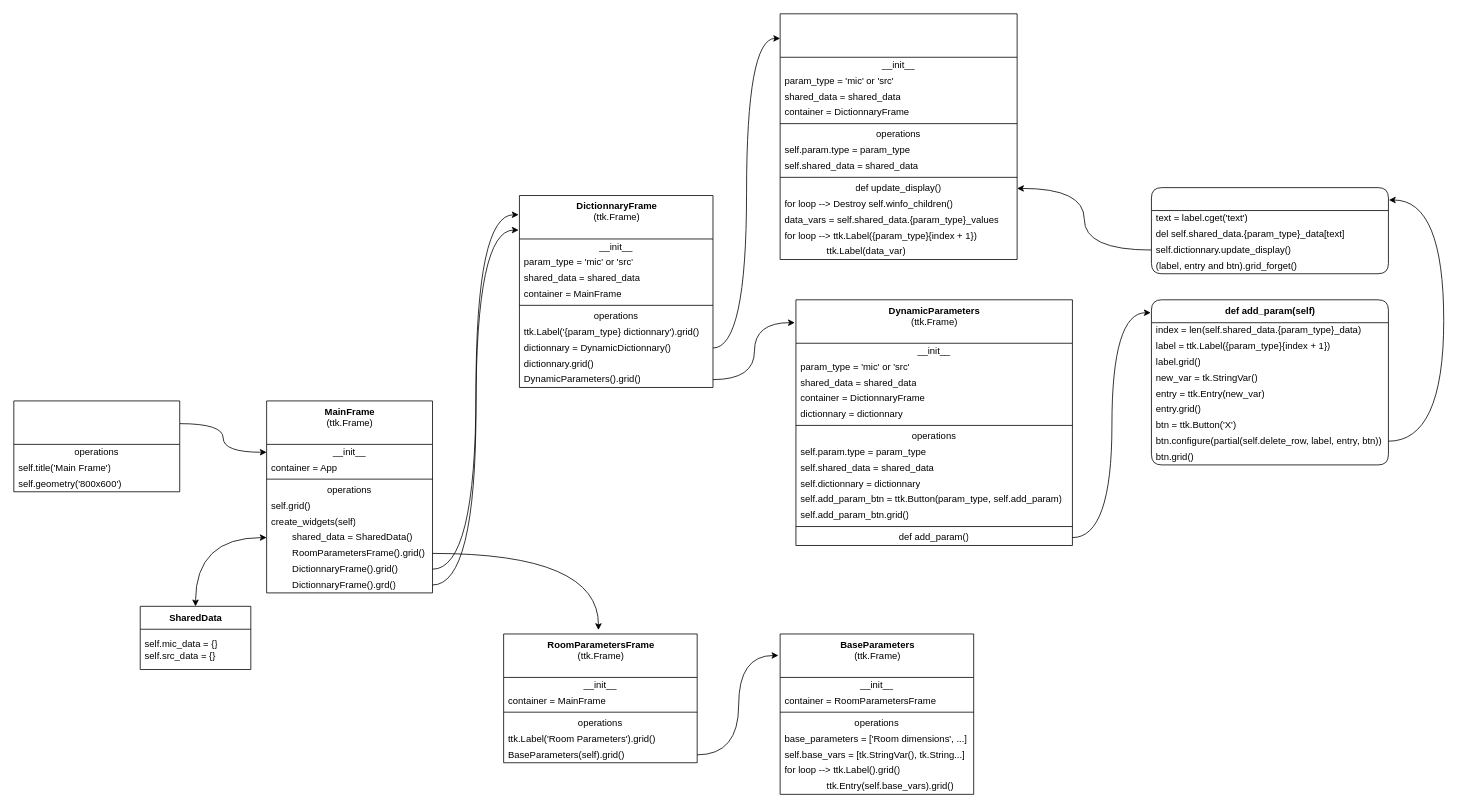
The diagram is 1458 pixels wide and 808 high, and some of its shapes have lost their labels. The shapes that lost their labels are listed below. From the top down, each one's box as (x1, y1, x2, y2) in pixels, then its label:
(779, 13, 1017, 260): DynamicDictionnary (ttk.Frame)
(1151, 187, 1388, 274): def delete_row(self, label, entry, btn)
(13, 400, 180, 492): App (tk.Tk)
